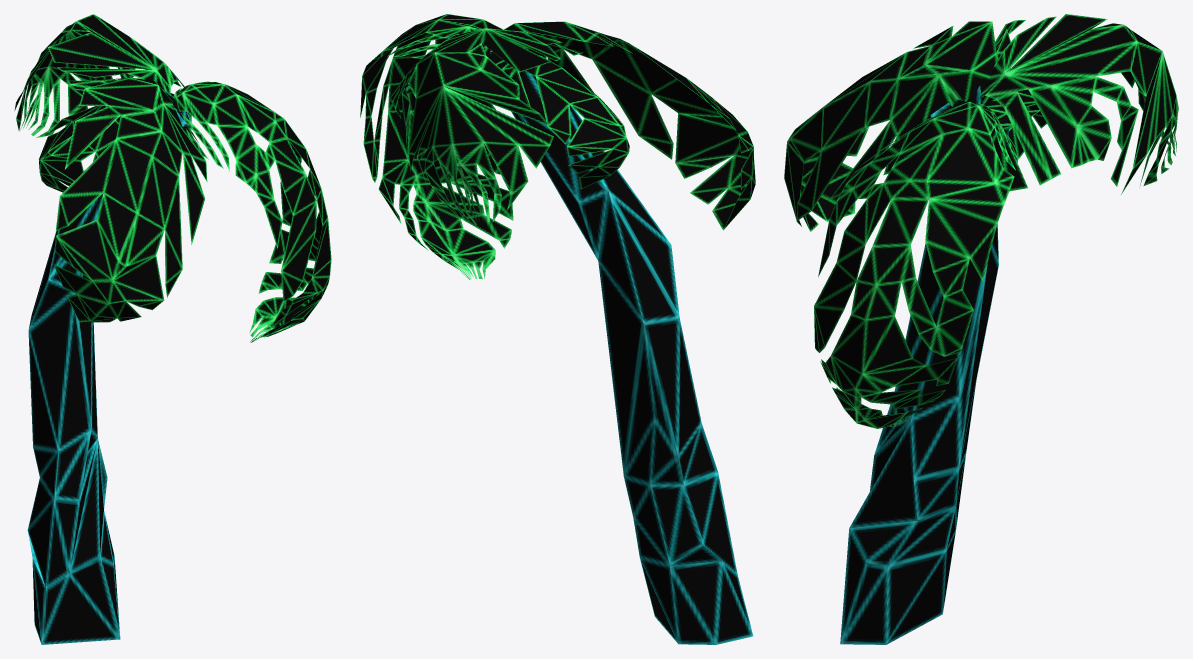
The model's file is palm1.FBX.
The picture shows the model from 3 angles, left to right: view 1: azimuth 30°, elevation 25°; view 2: azimuth 150°, elevation 25°; view 3: azimuth 270°, elevation 25°; orthographic projection. The views are drawn at different scales.
Visible parts, largest first — view 1: palm1; view 2: palm1; view 3: palm1.
Part boxes in pixels (x1,y1,x2,y2): palm1: [14, 14, 331, 644]; palm1: [360, 14, 755, 644]; palm1: [784, 14, 1178, 644].
Size of the model in its own units: 7.37 by 6.82 by 12.62.
